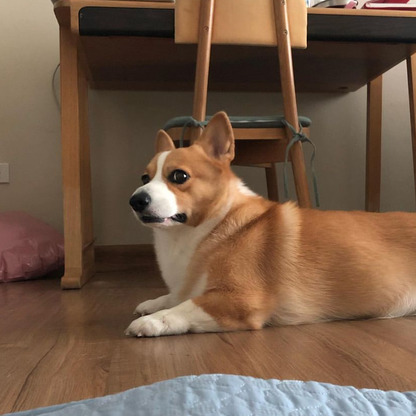Corgi: (116, 121, 397, 344)
